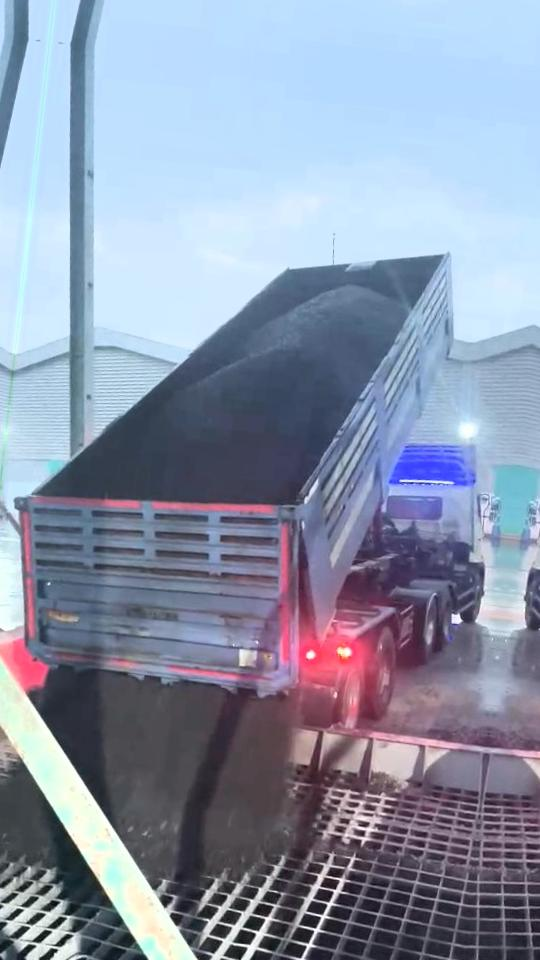gravel: (127, 285, 406, 504), (39, 670, 297, 879), (0, 764, 82, 870)
